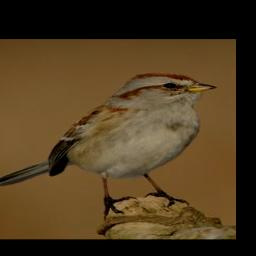Sparrow: (0, 71, 221, 218)
